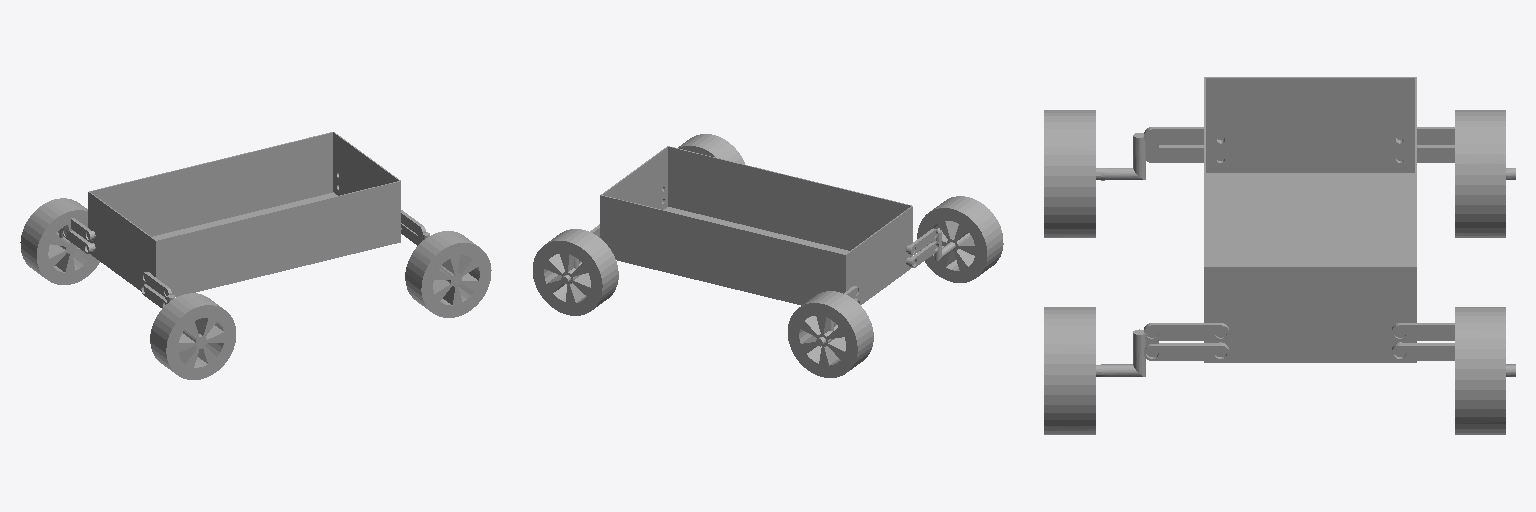
robot.urdf — Rover_3D_YCM:
<?xml version="1.0" encoding="utf-8"?>
<!-- This URDF was automatically created by SolidWorks to URDF Exporter! Originally created by [author] ([email redacted]) 
     Commit Version: 1.6.0-4-g7f85cfe  Build Version: 1.6.7995.38578
     For more information, please see http://wiki.ros.org/sw_urdf_exporter -->
<robot
  name="Rover_3D_YCM">
  <link
    name="base_link">
    <inertial>
      <origin
        xyz="-1.7694E-15 -6.6613E-16 0.076193"
        rpy="0 0 0" />
      <mass
        value="94" />
      <inertia
        ixx="4.1052"
        ixy="-6.5536E-15"
        ixz="7.8594E-15"
        iyy="12.572"
        iyz="5.2041E-15"
        izz="15.42" />
    </inertial>
    <visual>
      <origin
        xyz="0 0 0"
        rpy="0 0 0" />
      <geometry>
        <mesh
          filename="package://Rover_3D_YCM/meshes/base_link.STL" />
      </geometry>
      <material
        name="">
        <color
          rgba="0.69804 0.69804 0.69804 1" />
      </material>
    </visual>
    <collision>
      <origin
        xyz="0 0 0"
        rpy="0 0 0" />
      <geometry>
        <mesh
          filename="package://Rover_3D_YCM/meshes/base_link.STL" />
      </geometry>
    </collision>
  </link>
  <link
    name="FL_bot_sus_bar">
    <inertial>
      <origin
        xyz="-0.0799999999999998 -0.0249999999999986 0.00500000000000023"
        rpy="0 0 0" />
      <mass
        value="5.56431340636313" />
      <inertia
        ixx="0.000906033149050142"
        ixy="2.01882374895359E-17"
        ixz="-1.41220475917832E-19"
        iyy="0.0129397893779341"
        iyz="1.21926944678408E-21"
        izz="0.0136371607742457" />
    </inertial>
    <visual>
      <origin
        xyz="0 0 0"
        rpy="0 0 0" />
      <geometry>
        <mesh
          filename="package://Rover_3D_YCM/meshes/FL_bot_sus_bar.STL" />
      </geometry>
      <material
        name="">
        <color
          rgba="0.698039215686274 0.698039215686274 0.698039215686274 1" />
      </material>
    </visual>
    <collision>
      <origin
        xyz="0 0 0"
        rpy="0 0 0" />
      <geometry>
        <mesh
          filename="package://Rover_3D_YCM/meshes/FL_bot_sus_bar.STL" />
      </geometry>
    </collision>
  </link>
  <joint
    name="FL_sus_act"
    type="revolute">
    <origin
      xyz="0.54 0.21 0.0400000000000001"
      rpy="-1.5707963267949 0 -1.5707963267949" />
    <parent
      link="base_link" />
    <child
      link="FL_bot_sus_bar" />
    <axis
      xyz="0 0 1" />
    <limit
      lower="0"
      upper="0"
      effort="0"
      velocity="0" />
  </joint>
  <link
    name="FL_sus_cover">
    <inertial>
      <origin
        xyz="-0.0184682076827586 -0.0249999999999999 -0.00192196538620693"
        rpy="0 0 0" />
      <mass
        value="1.70569522443191" />
      <inertia
        ixx="0.000586045165231327"
        ixy="3.48401965793352E-19"
        ixz="-2.18476399443057E-23"
        iyy="0.000168829729154689"
        iyz="-1.84202599993834E-21"
        izz="0.000625818019268978" />
    </inertial>
    <visual>
      <origin
        xyz="0 0 0"
        rpy="0 0 0" />
      <geometry>
        <mesh
          filename="package://Rover_3D_YCM/meshes/FL_sus_cover.STL" />
      </geometry>
      <material
        name="">
        <color
          rgba="0.698039215686274 0.698039215686274 0.698039215686274 1" />
      </material>
    </visual>
    <collision>
      <origin
        xyz="0 0 0"
        rpy="0 0 0" />
      <geometry>
        <mesh
          filename="package://Rover_3D_YCM/meshes/FL_sus_cover.STL" />
      </geometry>
    </collision>
  </link>
  <joint
    name="FL_sus_link_joint"
    type="revolute">
    <origin
      xyz="-0.16 0 0.00500000000000023"
      rpy="0 0 0" />
    <parent
      link="FL_bot_sus_bar" />
    <child
      link="FL_sus_cover" />
    <axis
      xyz="0 0 1" />
    <limit
      lower="0"
      upper="0"
      effort="0"
      velocity="0" />
  </joint>
  <link
    name="FL_steer_link">
    <inertial>
      <origin
        xyz="-0.0239659481394052 -2.29028551679278E-09 -0.0410336800609606"
        rpy="0 0 0" />
      <mass
        value="2.73012416238969" />
      <inertia
        ixx="0.0009036174339673"
        ixy="2.47553305523891E-10"
        ixz="-0.00058667788749086"
        iyy="0.00282514989771107"
        iyz="4.04549271104643E-11"
        izz="0.00222866733723562" />
    </inertial>
    <visual>
      <origin
        xyz="0 0 0"
        rpy="0 0 0" />
      <geometry>
        <mesh
          filename="package://Rover_3D_YCM/meshes/FL_steer_link.STL" />
      </geometry>
      <material
        name="">
        <color
          rgba="0.698039215686274 0.698039215686274 0.698039215686274 1" />
      </material>
    </visual>
    <collision>
      <origin
        xyz="0 0 0"
        rpy="0 0 0" />
      <geometry>
        <mesh
          filename="package://Rover_3D_YCM/meshes/FL_steer_link.STL" />
      </geometry>
    </collision>
  </link>
  <joint
    name="FL_steer_rev"
    type="revolute">
    <origin
      xyz="-0.03 0 0"
      rpy="1.5707963267949 0 0" />
    <parent
      link="FL_sus_cover" />
    <child
      link="FL_steer_link" />
    <axis
      xyz="0 0 -1" />
    <limit
      lower="0"
      upper="0"
      effort="0"
      velocity="0" />
  </joint>
  <link
    name="FL_wheel">
    <inertial>
      <origin
        xyz="1.94289029309402E-16 -2.22044604925031E-16 0.0824387166859101"
        rpy="0 0 0" />
      <mass
        value="5.00003734648168" />
      <inertia
        ixx="0.0388687376458849"
        ixy="8.0376248697068E-18"
        ixz="-3.18675162943622E-17"
        iyy="0.0388687376458849"
        iyz="1.53039189692529E-18"
        izz="0.0656933301394115" />
    </inertial>
    <visual>
      <origin
        xyz="0 0 0"
        rpy="0 0 0" />
      <geometry>
        <mesh
          filename="package://Rover_3D_YCM/meshes/FL_wheel.STL" />
      </geometry>
      <material
        name="">
        <color
          rgba="0.698039215686274 0.698039215686274 0.698039215686274 1" />
      </material>
    </visual>
    <collision>
      <origin
        xyz="0 0 0"
        rpy="0 0 0" />
      <geometry>
        <mesh
          filename="package://Rover_3D_YCM/meshes/FL_wheel.STL" />
      </geometry>
    </collision>
  </link>
  <joint
    name="FL_drive_act"
    type="revolute">
    <origin
      xyz="-0.0799999999999998 0 -0.0500000000000003"
      rpy="3.14159265358979 -1.5707963267949 0" />
    <parent
      link="FL_steer_link" />
    <child
      link="FL_wheel" />
    <axis
      xyz="0 0 -1" />
    <limit
      lower="0"
      upper="0"
      effort="0"
      velocity="0" />
  </joint>
  <link
    name="FR_bot_sus_bar">
    <inertial>
      <origin
        xyz="0.0800000000000005 -0.0249999999999839 0.00500000000000034"
        rpy="0 0 0" />
      <mass
        value="5.56431340636313" />
      <inertia
        ixx="0.000906033149050143"
        ixy="2.39872829767963E-16"
        ixz="5.92514545444044E-19"
        iyy="0.0129397893779341"
        iyz="-3.66884928136397E-20"
        izz="0.0136371607742457" />
    </inertial>
    <visual>
      <origin
        xyz="0 0 0"
        rpy="0 0 0" />
      <geometry>
        <mesh
          filename="package://Rover_3D_YCM/meshes/FR_bot_sus_bar.STL" />
      </geometry>
      <material
        name="">
        <color
          rgba="0.698039215686274 0.698039215686274 0.698039215686274 1" />
      </material>
    </visual>
    <collision>
      <origin
        xyz="0 0 0"
        rpy="0 0 0" />
      <geometry>
        <mesh
          filename="package://Rover_3D_YCM/meshes/FR_bot_sus_bar.STL" />
      </geometry>
    </collision>
  </link>
  <joint
    name="FR_sus_act"
    type="revolute">
    <origin
      xyz="0.54 -0.21 0.04"
      rpy="-1.5707963267949 0 -1.5707963267949" />
    <parent
      link="base_link" />
    <child
      link="FR_bot_sus_bar" />
    <axis
      xyz="0 0 1" />
    <limit
      lower="0"
      upper="0"
      effort="0"
      velocity="0" />
  </joint>
  <link
    name="FR_sus_cover">
    <inertial>
      <origin
        xyz="0.018468207682758 -0.0249999999999913 -0.00192196538620681"
        rpy="0 0 0" />
      <mass
        value="1.70569522443191" />
      <inertia
        ixx="0.000586045165231328"
        ixy="-4.42583635646179E-19"
        ixz="1.40987981754517E-21"
        iyy="0.000168829729154688"
        iyz="-3.4487495669025E-20"
        izz="0.000625818019268978" />
    </inertial>
    <visual>
      <origin
        xyz="0 0 0"
        rpy="0 0 0" />
      <geometry>
        <mesh
          filename="package://Rover_3D_YCM/meshes/FR_sus_cover.STL" />
      </geometry>
      <material
        name="">
        <color
          rgba="0.698039215686274 0.698039215686274 0.698039215686274 1" />
      </material>
    </visual>
    <collision>
      <origin
        xyz="0 0 0"
        rpy="0 0 0" />
      <geometry>
        <mesh
          filename="package://Rover_3D_YCM/meshes/FR_sus_cover.STL" />
      </geometry>
    </collision>
  </link>
  <joint
    name="FR_sus_link_joint"
    type="revolute">
    <origin
      xyz="0.160000000000002 0 0.005"
      rpy="0 0 0" />
    <parent
      link="FR_bot_sus_bar" />
    <child
      link="FR_sus_cover" />
    <axis
      xyz="0 0 1" />
    <limit
      lower="0"
      upper="0"
      effort="0"
      velocity="0" />
  </joint>
  <link
    name="FR_steer_link">
    <inertial>
      <origin
        xyz="0.023965948139405 2.29028551679278E-09 -0.0410336800609511"
        rpy="0 0 0" />
      <mass
        value="2.73012416238976" />
      <inertia
        ixx="0.00090361743396732"
        ixy="2.47553309450729E-10"
        ixz="0.000586677887490873"
        iyy="0.00282514989771114"
        iyz="-4.04549292905472E-11"
        izz="0.00222866733723567" />
    </inertial>
    <visual>
      <origin
        xyz="0 0 0"
        rpy="0 0 0" />
      <geometry>
        <mesh
          filename="package://Rover_3D_YCM/meshes/FR_steer_link.STL" />
      </geometry>
      <material
        name="">
        <color
          rgba="0.698039215686274 0.698039215686274 0.698039215686274 1" />
      </material>
    </visual>
    <collision>
      <origin
        xyz="0 0 0"
        rpy="0 0 0" />
      <geometry>
        <mesh
          filename="package://Rover_3D_YCM/meshes/FR_steer_link.STL" />
      </geometry>
    </collision>
  </link>
  <joint
    name="FR_steer_rev"
    type="revolute">
    <origin
      xyz="0.0299999999999996 0 0"
      rpy="1.5707963267949 0 0" />
    <parent
      link="FR_sus_cover" />
    <child
      link="FR_steer_link" />
    <axis
      xyz="0 0 1" />
    <limit
      lower="0"
      upper="0"
      effort="0"
      velocity="0" />
  </joint>
  <link
    name="FR_wheel">
    <inertial>
      <origin
        xyz="4.44089209850063E-16 8.96505092384814E-15 -0.0824387166859111"
        rpy="0 0 0" />
      <mass
        value="5.00003734648169" />
      <inertia
        ixx="0.038868737645885"
        ixy="2.56281116633493E-18"
        ixz="-3.46426460583435E-17"
        iyy="0.038868737645885"
        iyz="4.20152667502117E-18"
        izz="0.0656933301394116" />
    </inertial>
    <visual>
      <origin
        xyz="0 0 0"
        rpy="0 0 0" />
      <geometry>
        <mesh
          filename="package://Rover_3D_YCM/meshes/FR_wheel.STL" />
      </geometry>
      <material
        name="">
        <color
          rgba="0.698039215686274 0.698039215686274 0.698039215686274 1" />
      </material>
    </visual>
    <collision>
      <origin
        xyz="0 0 0"
        rpy="0 0 0" />
      <geometry>
        <mesh
          filename="package://Rover_3D_YCM/meshes/FR_wheel.STL" />
      </geometry>
    </collision>
  </link>
  <joint
    name="FR_drive_act"
    type="revolute">
    <origin
      xyz="0.0800000000000005 0 -0.0499999999999821"
      rpy="-1.5707963267949 0 1.5707963267949" />
    <parent
      link="FR_steer_link" />
    <child
      link="FR_wheel" />
    <axis
      xyz="0 0 1" />
    <limit
      lower="0"
      upper="0"
      effort="0"
      velocity="0" />
  </joint>
  <link
    name="RL_bot_sus_bar">
    <inertial>
      <origin
        xyz="-0.0800000000000002 -0.0250000000000022 -0.00500000000000017"
        rpy="0 0 0" />
      <mass
        value="5.56431340636312" />
      <inertia
        ixx="0.00090603314905014"
        ixy="-3.56069624769896E-17"
        ixz="1.73536004221837E-19"
        iyy="0.0129397893779341"
        iyz="-1.69826196611493E-20"
        izz="0.0136371607742456" />
    </inertial>
    <visual>
      <origin
        xyz="0 0 0"
        rpy="0 0 0" />
      <geometry>
        <mesh
          filename="package://Rover_3D_YCM/meshes/RL_bot_sus_bar.STL" />
      </geometry>
      <material
        name="">
        <color
          rgba="0.698039215686274 0.698039215686274 0.698039215686274 1" />
      </material>
    </visual>
    <collision>
      <origin
        xyz="0 0 0"
        rpy="0 0 0" />
      <geometry>
        <mesh
          filename="package://Rover_3D_YCM/meshes/RL_bot_sus_bar.STL" />
      </geometry>
    </collision>
  </link>
  <joint
    name="RL_sus_act"
    type="revolute">
    <origin
      xyz="-0.54 0.21 0.04"
      rpy="-1.5707963267949 0 -1.5707963267949" />
    <parent
      link="base_link" />
    <child
      link="RL_bot_sus_bar" />
    <axis
      xyz="0 0 -1" />
    <limit
      lower="0"
      upper="0"
      effort="0"
      velocity="0" />
  </joint>
  <link
    name="RL_sus_cover">
    <inertial>
      <origin
        xyz="-0.0184682076827584 -0.0250000000000001 0.00192196538620704"
        rpy="0 0 0" />
      <mass
        value="1.70569522443191" />
      <inertia
        ixx="0.000586045165231327"
        ixy="1.85077080185969E-18"
        ixz="1.04855591674827E-21"
        iyy="0.000168829729154689"
        iyz="-6.19433588634723E-22"
        izz="0.000625818019268978" />
    </inertial>
    <visual>
      <origin
        xyz="0 0 0"
        rpy="0 0 0" />
      <geometry>
        <mesh
          filename="package://Rover_3D_YCM/meshes/RL_sus_cover.STL" />
      </geometry>
      <material
        name="">
        <color
          rgba="0.698039215686274 0.698039215686274 0.698039215686274 1" />
      </material>
    </visual>
    <collision>
      <origin
        xyz="0 0 0"
        rpy="0 0 0" />
      <geometry>
        <mesh
          filename="package://Rover_3D_YCM/meshes/RL_sus_cover.STL" />
      </geometry>
    </collision>
  </link>
  <joint
    name="RL_sus_link_joint"
    type="revolute">
    <origin
      xyz="-0.16 0 -0.00500000000000012"
      rpy="0 0 0" />
    <parent
      link="RL_bot_sus_bar" />
    <child
      link="RL_sus_cover" />
    <axis
      xyz="0 0 -1" />
    <limit
      lower="0"
      upper="0"
      effort="0"
      velocity="0" />
  </joint>
  <link
    name="RL_steer_link">
    <inertial>
      <origin
        xyz="-0.0239659481394053 -2.29028546128163E-09 -0.0410336800609604"
        rpy="0 0 0" />
      <mass
        value="2.73012416238971" />
      <inertia
        ixx="0.000903617433967302"
        ixy="2.47553307596975E-10"
        ixz="-0.00058667788749086"
        iyy="0.00282514989771109"
        iyz="4.04549287559705E-11"
        izz="0.00222866733723563" />
    </inertial>
    <visual>
      <origin
        xyz="0 0 0"
        rpy="0 0 0" />
      <geometry>
        <mesh
          filename="package://Rover_3D_YCM/meshes/RL_steer_link.STL" />
      </geometry>
      <material
        name="">
        <color
          rgba="0.698039215686274 0.698039215686274 0.698039215686274 1" />
      </material>
    </visual>
    <collision>
      <origin
        xyz="0 0 0"
        rpy="0 0 0" />
      <geometry>
        <mesh
          filename="package://Rover_3D_YCM/meshes/RL_steer_link.STL" />
      </geometry>
    </collision>
  </link>
  <joint
    name="RL_steer_rev"
    type="revolute">
    <origin
      xyz="-0.03 0 0"
      rpy="1.5707963267949 0 0" />
    <parent
      link="RL_sus_cover" />
    <child
      link="RL_steer_link" />
    <axis
      xyz="0 0 -1" />
    <limit
      lower="0"
      upper="0"
      effort="0"
      velocity="0" />
  </joint>
  <link
    name="RL_wheel">
    <inertial>
      <origin
        xyz="-1.80411241501588E-16 -6.10622663543836E-16 0.0824387166859099"
        rpy="0 0 0" />
      <mass
        value="5.00003734648169" />
      <inertia
        ixx="0.0388687376458849"
        ixy="-4.1993050436337E-18"
        ixz="-1.51309765766836E-17"
        iyy="0.0388687376458849"
        iyz="-3.92053967486043E-17"
        izz="0.0656933301394115" />
    </inertial>
    <visual>
      <origin
        xyz="0 0 0"
        rpy="0 0 0" />
      <geometry>
        <mesh
          filename="package://Rover_3D_YCM/meshes/RL_wheel.STL" />
      </geometry>
      <material
        name="">
        <color
          rgba="0.698039215686274 0.698039215686274 0.698039215686274 1" />
      </material>
    </visual>
    <collision>
      <origin
        xyz="0 0 0"
        rpy="0 0 0" />
      <geometry>
        <mesh
          filename="package://Rover_3D_YCM/meshes/RL_wheel.STL" />
      </geometry>
    </collision>
  </link>
  <joint
    name="RL_drive_act"
    type="revolute">
    <origin
      xyz="-0.0800000000000001 0 -0.05"
      rpy="3.14159265358979 -1.5707963267949 0" />
    <parent
      link="RL_steer_link" />
    <child
      link="RL_wheel" />
    <axis
      xyz="0 0 -1" />
    <limit
      lower="0"
      upper="0"
      effort="0"
      velocity="0" />
  </joint>
  <link
    name="RR_bot_sus_bar">
    <inertial>
      <origin
        xyz="0.0799999999999998 -0.0249999999999979 -0.00500000000000012"
        rpy="0 0 0" />
      <mass
        value="5.56431340636313" />
      <inertia
        ixx="0.000906033149050144"
        ixy="-2.95727890548849E-17"
        ixz="-3.83702079118149E-19"
        iyy="0.0129397893779342"
        iyz="6.14684210648548E-20"
        izz="0.0136371607742457" />
    </inertial>
    <visual>
      <origin
        xyz="0 0 0"
        rpy="0 0 0" />
      <geometry>
        <mesh
          filename="package://Rover_3D_YCM/meshes/RR_bot_sus_bar.STL" />
      </geometry>
      <material
        name="">
        <color
          rgba="0.698039215686274 0.698039215686274 0.698039215686274 1" />
      </material>
    </visual>
    <collision>
      <origin
        xyz="0 0 0"
        rpy="0 0 0" />
      <geometry>
        <mesh
          filename="package://Rover_3D_YCM/meshes/RR_bot_sus_bar.STL" />
      </geometry>
    </collision>
  </link>
  <joint
    name="RR_sus_act"
    type="revolute">
    <origin
      xyz="-0.54 -0.21 0.04"
      rpy="-1.5707963267949 0 -1.5707963267949" />
    <parent
      link="base_link" />
    <child
      link="RR_bot_sus_bar" />
    <axis
      xyz="0 0 -1" />
    <limit
      lower="0"
      upper="0"
      effort="0"
      velocity="0" />
  </joint>
  <link
    name="RR_sus_cover">
    <inertial>
      <origin
        xyz="0.0184682076827587 -0.025 0.00192196538620698"
        rpy="0 0 0" />
      <mass
        value="1.70569522443191" />
      <inertia
        ixx="0.000586045165231327"
        ixy="1.72636560779348E-18"
        ixz="-9.26486277321908E-22"
        iyy="0.000168829729154688"
        iyz="1.39512471551459E-20"
        izz="0.000625818019268978" />
    </inertial>
    <visual>
      <origin
        xyz="0 0 0"
        rpy="0 0 0" />
      <geometry>
        <mesh
          filename="package://Rover_3D_YCM/meshes/RR_sus_cover.STL" />
      </geometry>
      <material
        name="">
        <color
          rgba="0.698039215686274 0.698039215686274 0.698039215686274 1" />
      </material>
    </visual>
    <collision>
      <origin
        xyz="0 0 0"
        rpy="0 0 0" />
      <geometry>
        <mesh
          filename="package://Rover_3D_YCM/meshes/RR_sus_cover.STL" />
      </geometry>
    </collision>
  </link>
  <joint
    name="RR_sus_link_joint"
    type="revolute">
    <origin
      xyz="0.16 0 -0.00500000000000012"
      rpy="0 0 0" />
    <parent
      link="RR_bot_sus_bar" />
    <child
      link="RR_sus_cover" />
    <axis
      xyz="0 0 -1" />
    <limit
      lower="0"
      upper="0"
      effort="0"
      velocity="0" />
  </joint>
  <link
    name="RR_steer_link">
    <inertial>
      <origin
        xyz="0.023965948139405 2.29028546128163E-09 -0.0410336800609604"
        rpy="0 0 0" />
      <mass
        value="2.73012416238972" />
      <inertia
        ixx="0.000903617433967309"
        ixy="2.47553306329978E-10"
        ixz="0.000586677887490864"
        iyy="0.0028251498977111"
        iyz="-4.04549283671303E-11"
        izz="0.00222866733723564" />
    </inertial>
    <visual>
      <origin
        xyz="0 0 0"
        rpy="0 0 0" />
      <geometry>
        <mesh
          filename="package://Rover_3D_YCM/meshes/RR_steer_link.STL" />
      </geometry>
      <material
        name="">
        <color
          rgba="0.698039215686274 0.698039215686274 0.698039215686274 1" />
      </material>
    </visual>
    <collision>
      <origin
        xyz="0 0 0"
        rpy="0 0 0" />
      <geometry>
        <mesh
          filename="package://Rover_3D_YCM/meshes/RR_steer_link.STL" />
      </geometry>
    </collision>
  </link>
  <joint
    name="RR_steer_rev"
    type="revolute">
    <origin
      xyz="0.0300000000000002 0 0"
      rpy="1.5707963267949 0 0" />
    <parent
      link="RR_sus_cover" />
    <child
      link="RR_steer_link" />
    <axis
      xyz="0 0 -1" />
    <limit
      lower="0"
      upper="0"
      effort="0"
      velocity="0" />
  </joint>
  <link
    name="RR_wheel">
    <inertial>
      <origin
        xyz="-5.55111512312578E-17 -6.93889390390723E-17 -0.0824387166859095"
        rpy="0 0 0" />
      <mass
        value="5.00003734648168" />
      <inertia
        ixx="0.0388687376458848"
        ixy="-3.66284304890911E-18"
        ixz="-6.43112322898774E-18"
        iyy="0.0388687376458848"
        iyz="1.22184827828379E-17"
        izz="0.0656933301394114" />
    </inertial>
    <visual>
      <origin
        xyz="0 0 0"
        rpy="0 0 0" />
      <geometry>
        <mesh
          filename="package://Rover_3D_YCM/meshes/RR_wheel.STL" />
      </geometry>
      <material
        name="">
        <color
          rgba="0.698039215686274 0.698039215686274 0.698039215686274 1" />
      </material>
    </visual>
    <collision>
      <origin
        xyz="0 0 0"
        rpy="0 0 0" />
      <geometry>
        <mesh
          filename="package://Rover_3D_YCM/meshes/RR_wheel.STL" />
      </geometry>
    </collision>
  </link>
  <joint
    name="Rr_drive_act"
    type="revolute">
    <origin
      xyz="0.0800000000000001 0 -0.0500000000000001"
      rpy="1.5707963267949 0 -1.5707963267949" />
    <parent
      link="RR_steer_link" />
    <child
      link="RR_wheel" />
    <axis
      xyz="0 0 1" />
    <limit
      lower="0"
      upper="0"
      effort="0"
      velocity="0" />
  </joint>
</robot>

--- What the picture shows (computed from the rendered views, not written in the file) ---
The picture shows the robot from 3 angles, left to right: view 1: azimuth 30°, elevation 25°; view 2: azimuth 150°, elevation 25°; view 3: azimuth 270°, elevation 25°; orthographic projection.
Robot: Rover_3D_YCM — 17 links, 16 joints (16 revolute); root link base_link; default pose: every joint at zero.
Links seen in each view (by area): view 1: base_link, FR_wheel, RR_wheel, RL_wheel, RR_bot_sus_bar, RL_bot_sus_bar; view 2: base_link, RL_wheel, FL_wheel, RR_wheel, FR_wheel, RR_bot_sus_bar; view 3: base_link, FR_wheel, RR_wheel, RL_wheel, FL_wheel, FR_bot_sus_bar, FL_bot_sus_bar, RR_bot_sus_bar, RL_bot_sus_bar, FR_steer_link, RR_sus_cover, RR_steer_link (+1 smaller).
Link boxes in pixels (left/top/right/bottom): base_link: left=87, top=132, right=401, bottom=296; FR_wheel: left=405, top=231, right=491, bottom=317; RR_wheel: left=150, top=293, right=235, bottom=379; RL_wheel: left=20, top=198, right=99, bottom=284; RR_bot_sus_bar: left=141, top=272, right=171, bottom=307; RL_bot_sus_bar: left=62, top=218, right=93, bottom=253; base_link: left=600, top=146, right=914, bottom=305; RL_wheel: left=788, top=291, right=873, bottom=377; FL_wheel: left=533, top=229, right=618, bottom=315; RR_wheel: left=917, top=196, right=1003, bottom=282; FR_wheel: left=678, top=134, right=744, bottom=164; RR_bot_sus_bar: left=908, top=228, right=938, bottom=267; base_link: left=1204, top=77, right=1416, bottom=362; FR_wheel: left=1044, top=307, right=1104, bottom=434; RR_wheel: left=1044, top=110, right=1104, bottom=237; RL_wheel: left=1455, top=110, right=1515, bottom=237; FL_wheel: left=1455, top=307, right=1515, bottom=434; FR_bot_sus_bar: left=1144, top=323, right=1228, bottom=360; FL_bot_sus_bar: left=1392, top=323, right=1454, bottom=360; RR_bot_sus_bar: left=1144, top=127, right=1203, bottom=162; RL_bot_sus_bar: left=1417, top=127, right=1454, bottom=162; FR_steer_link: left=1105, top=352, right=1145, bottom=376; RR_sus_cover: left=1133, top=131, right=1158, bottom=161; RR_steer_link: left=1105, top=156, right=1145, bottom=179.
Size in the robot's own frame: 1.39 by 1.1 by 0.41 metres.
17 mesh visuals loaded from 17 distinct referenced files (17 binary STL).